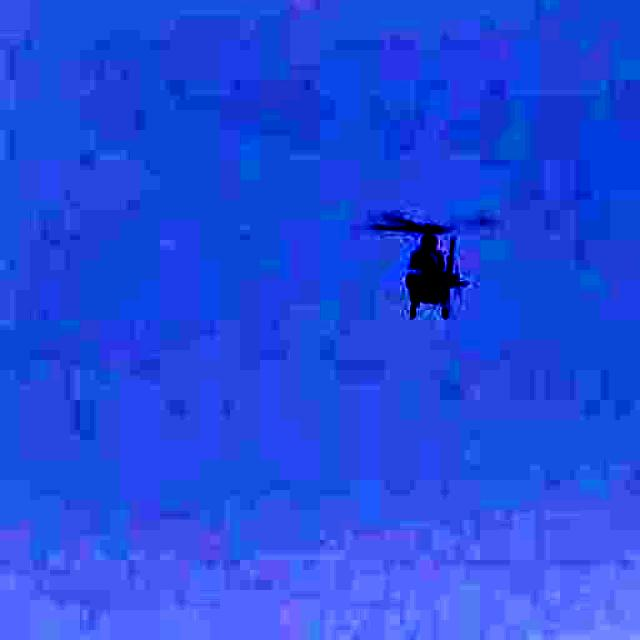drone: (336, 180, 512, 330)
